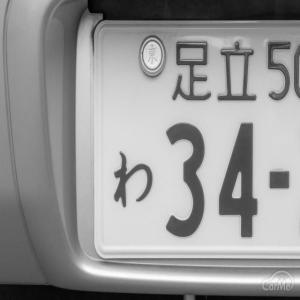Plate: (94, 20, 300, 259)
